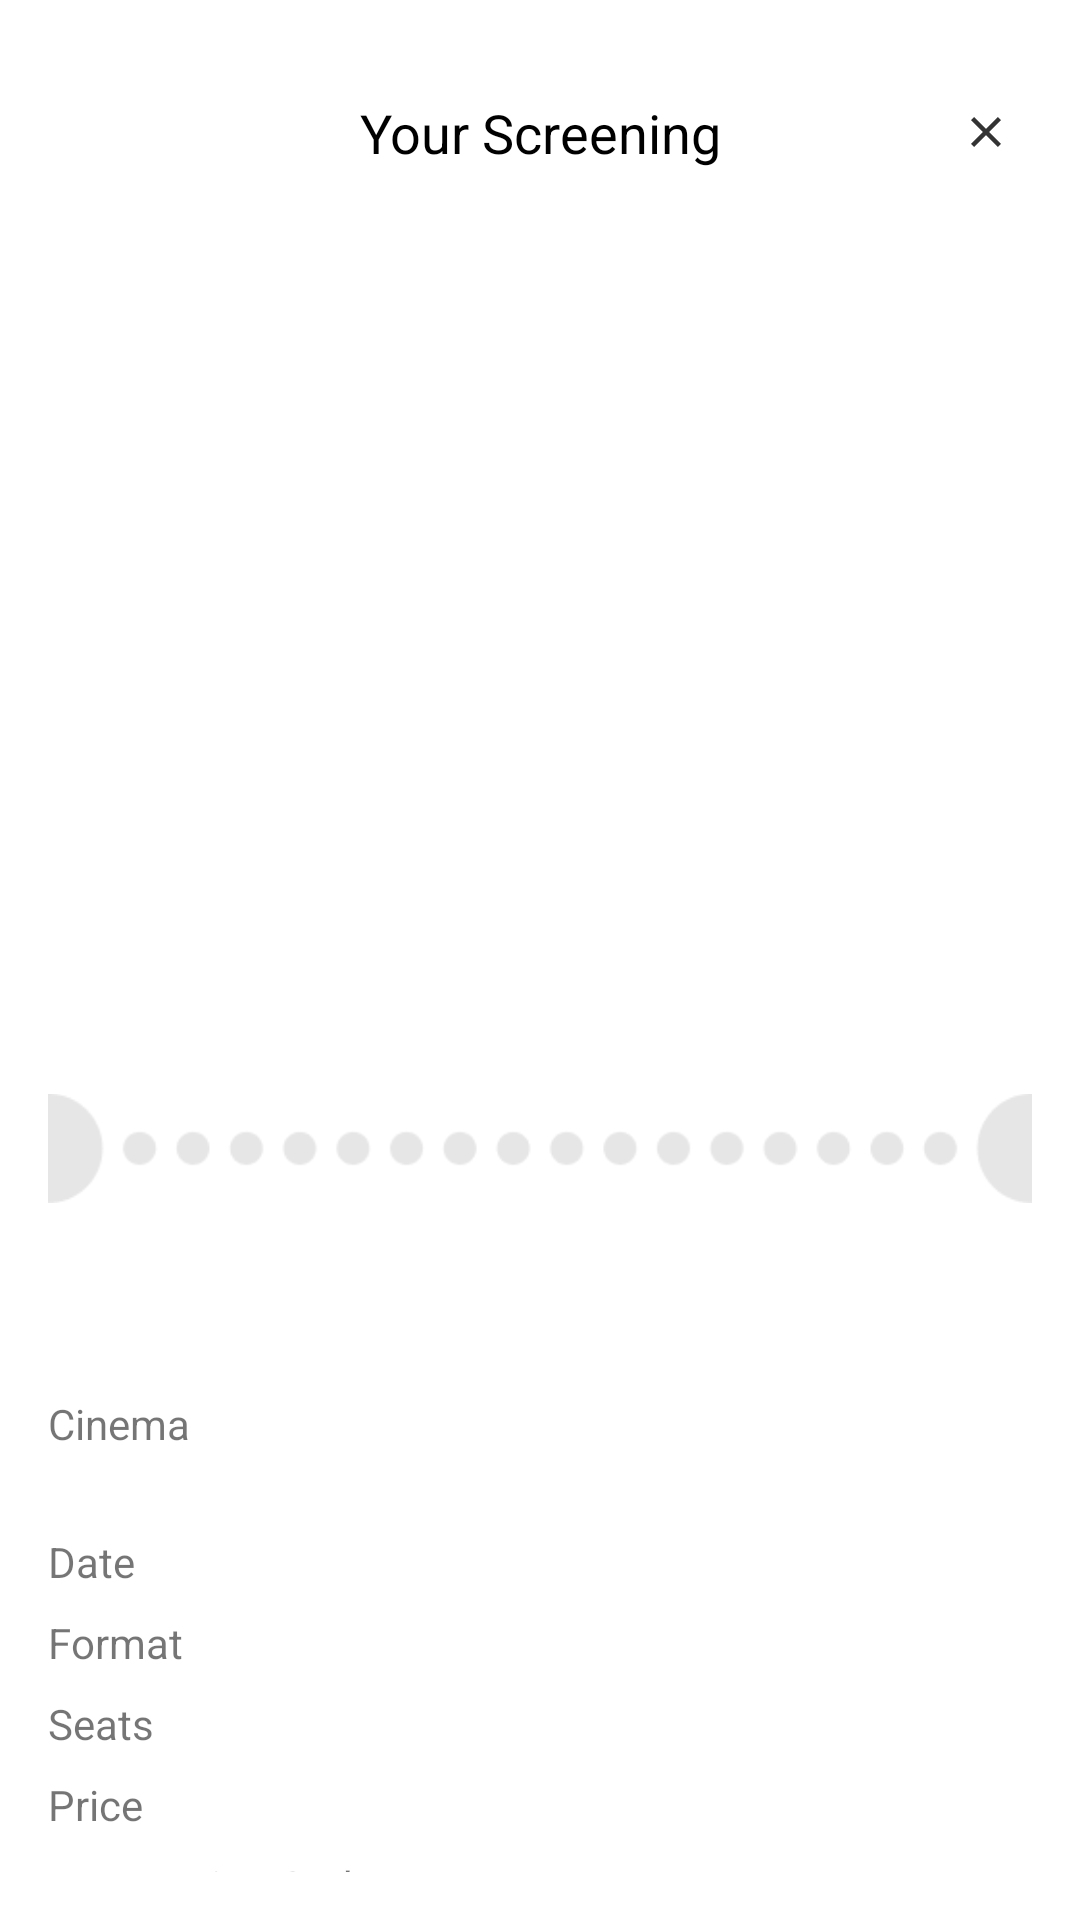

Point at icon controls on the screen. Image size 1080w x 1920h, points as (x,y).
close: (986,132)
